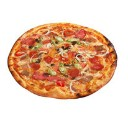pepperonipizza: (8, 24, 119, 99)
